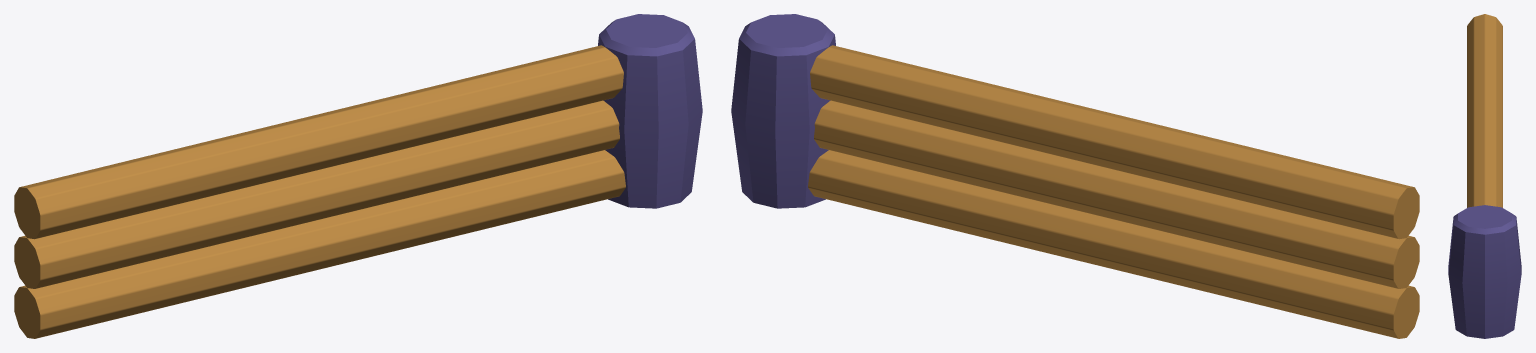
Rendered from Fence2.fbx.
3 renders of one model, left to right at view 1: azimuth 30°, elevation 25°; view 2: azimuth 150°, elevation 25°; view 3: azimuth 270°, elevation 25°, orthographic. The views are drawn at different scales.
Parts seen in each view (by area): view 1: polySurface6; view 2: polySurface6; view 3: polySurface6.
Part boxes in pixels (x1,y1,x2,y2): polySurface6: (14, 14, 702, 338); polySurface6: (731, 14, 1419, 338); polySurface6: (1448, 14, 1521, 338).
Size of the model in its own units: 452 by 103 by 62.39.
